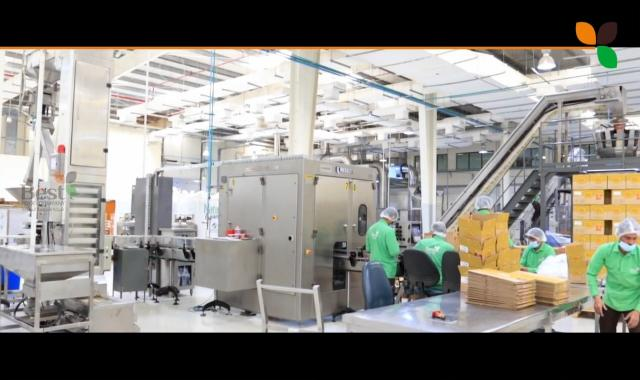hairnet: (615, 216, 639, 247), (525, 225, 546, 247), (474, 194, 493, 212), (382, 205, 398, 222), (430, 221, 446, 238)
